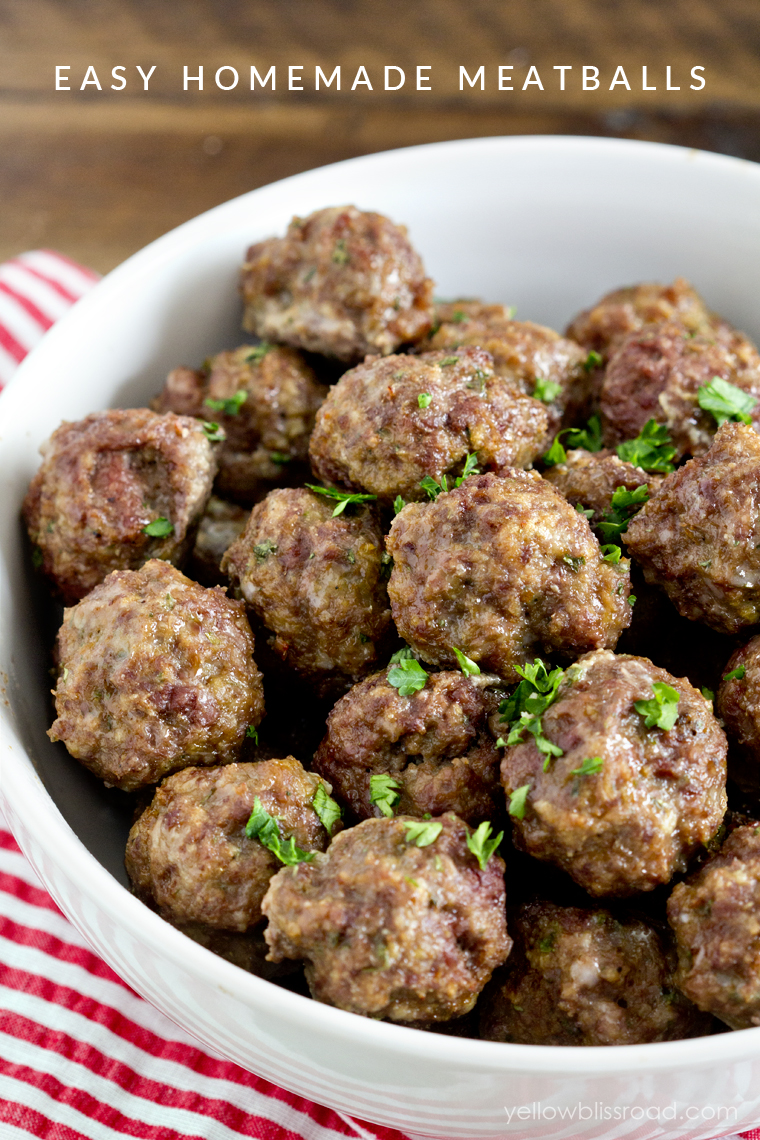meatballs: (93, 372, 691, 947)
